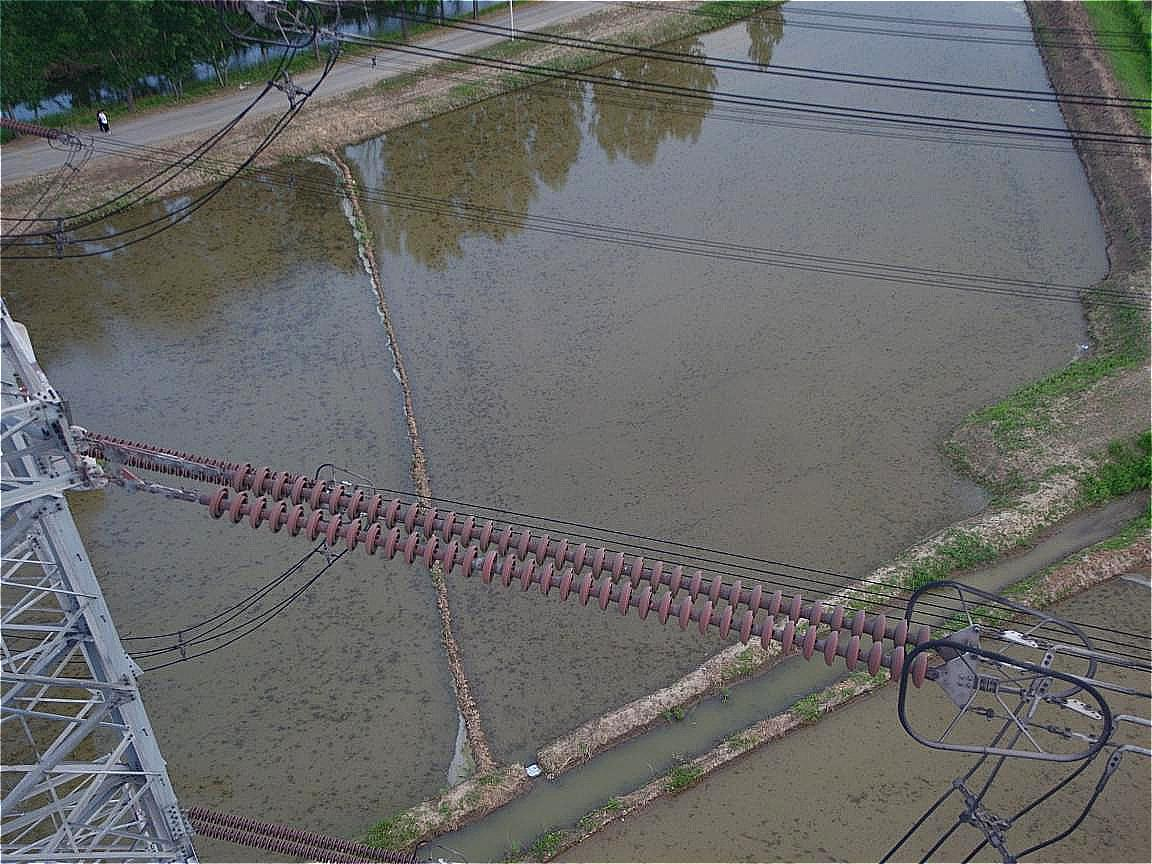insultor1: (172, 450, 947, 678)
